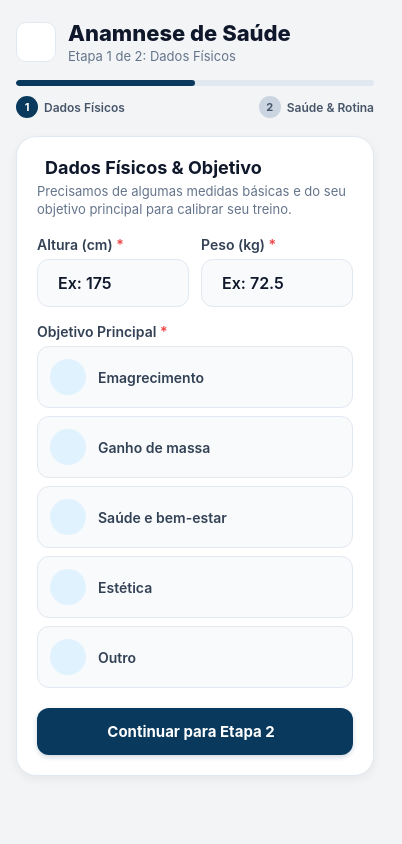
Test: AnamnesisScreen › valida campos obrigatórios da primeira etapa
Click the text "Continuar para Etapa 2" at (191, 732), box [107, 722, 275, 741]
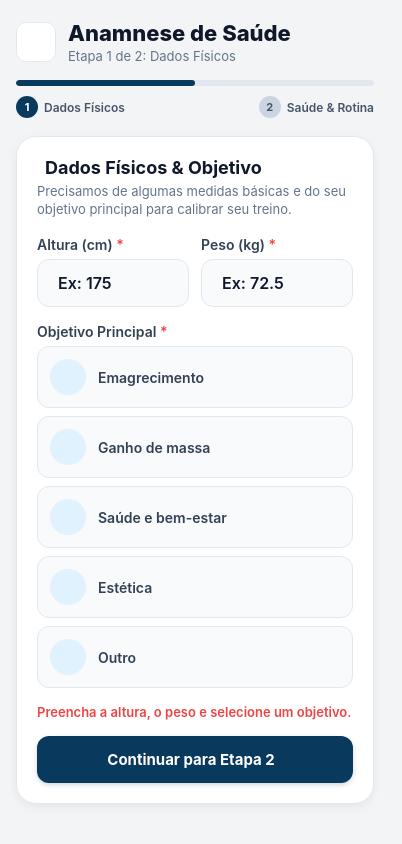
Now the text "Preencha a altura, o peso e selecione um objetivo." is shown, box [37, 704, 353, 720]
